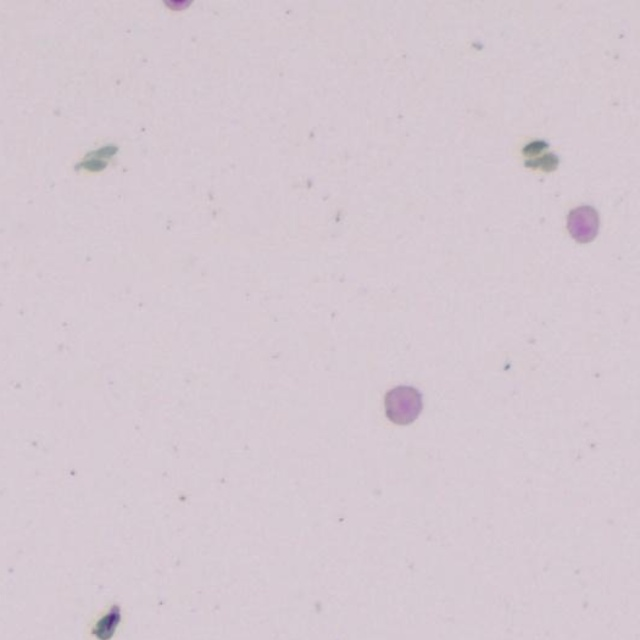intermediate: (384, 385, 422, 424), (567, 205, 599, 243), (91, 605, 121, 640), (162, 0, 193, 11)
